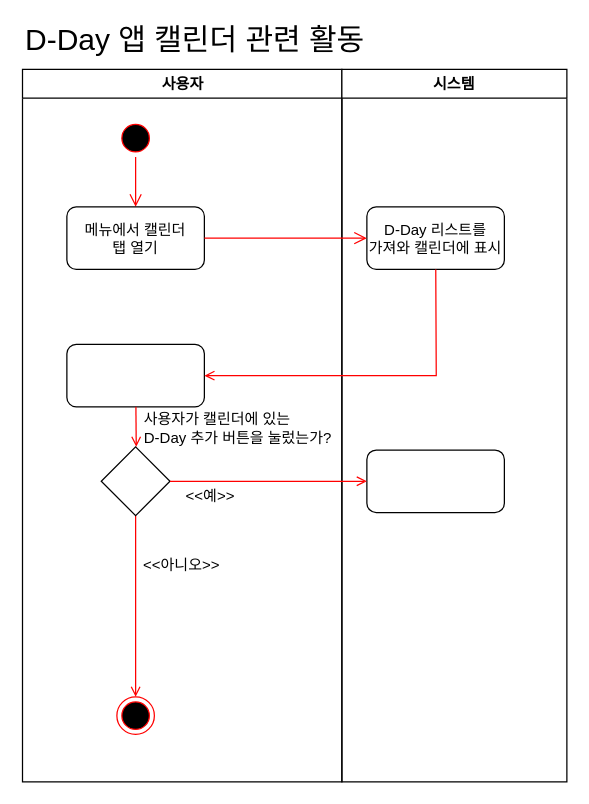
The diagram is 589 pixels wide and 804 high, and some of its shapes have lost their labels. The shapes that lost their labels are listed below. From the top down, each one's centre as x and y in pixels, then its label:
At pixel 135 375: "캘린더 조회".
At pixel 435 480: "D-Day 추가".
